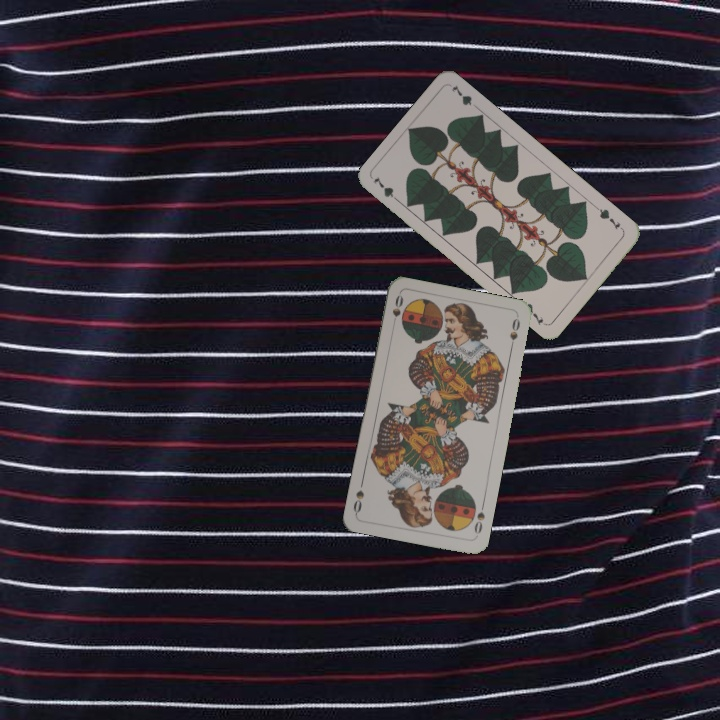G7: (369, 172, 403, 206), (592, 203, 626, 233)
SO: (388, 291, 406, 331), (470, 499, 487, 539)
